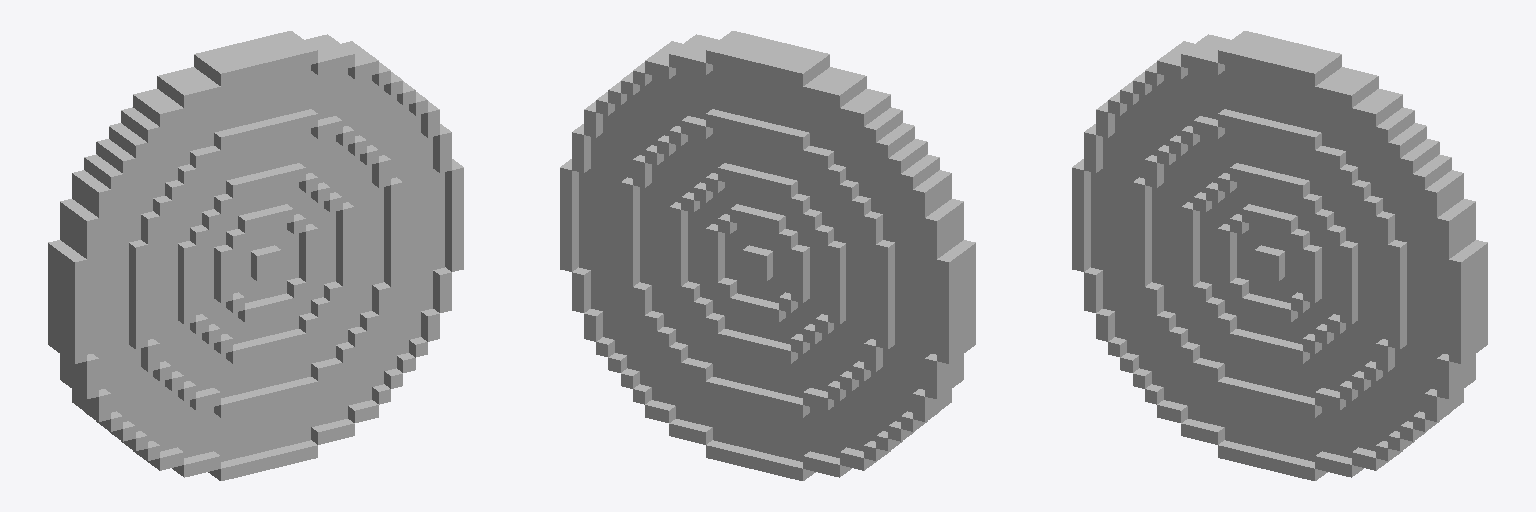
The model's file is Precision.obj.
3 renders of one model, left to right at view 1: azimuth 30°, elevation 25°; view 2: azimuth 150°, elevation 25°; view 3: azimuth 330°, elevation 25°, orthographic.
Visible parts, largest first — view 1: Precision_Plane.081; view 2: Precision_Plane.081; view 3: Precision_Plane.081.
Part boxes in pixels (x1,y1,x2,y2): Precision_Plane.081: (48,31,463,480); Precision_Plane.081: (560,31,975,480); Precision_Plane.081: (1072,31,1487,480).
Size of the model in its own units: 1.67 by 1.67 by 0.2.